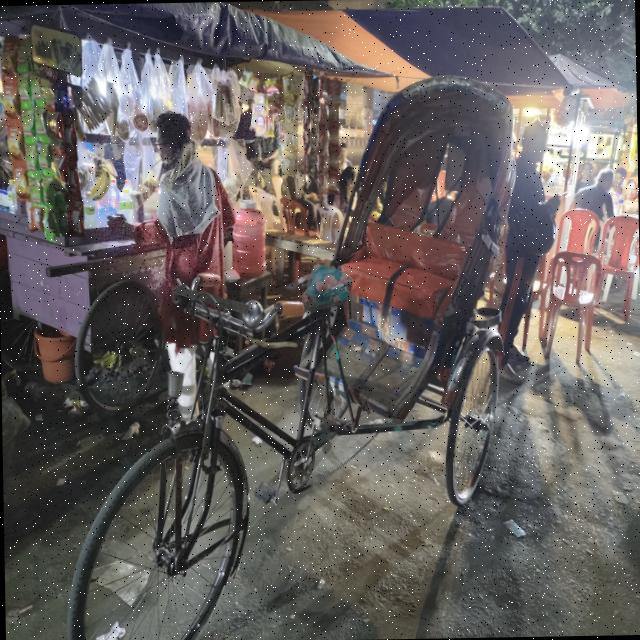rikshaw: (109, 39, 529, 640)
